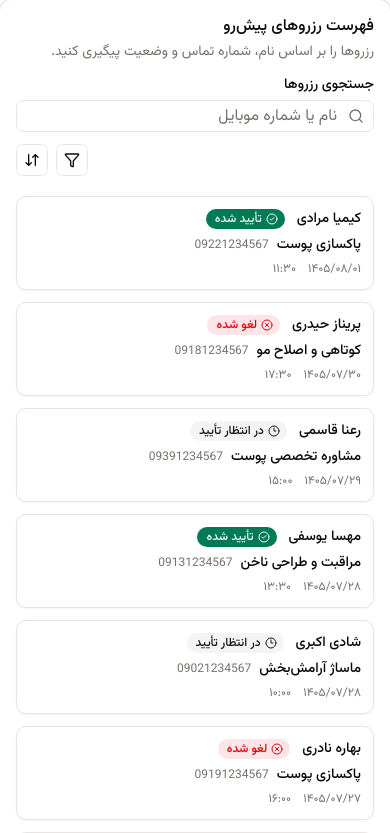
it: Reservation details and status actions › opens details from anywhere on a mobile reservation item
Click the 1st text "پاکسازی پوست" at (319, 245), box top-left (277, 235), bottom-right (361, 255)
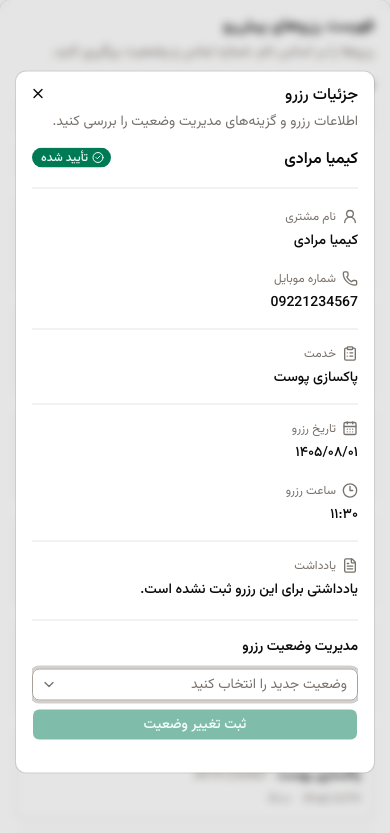
Now the dialog "جزئیات رزرو" is shown
